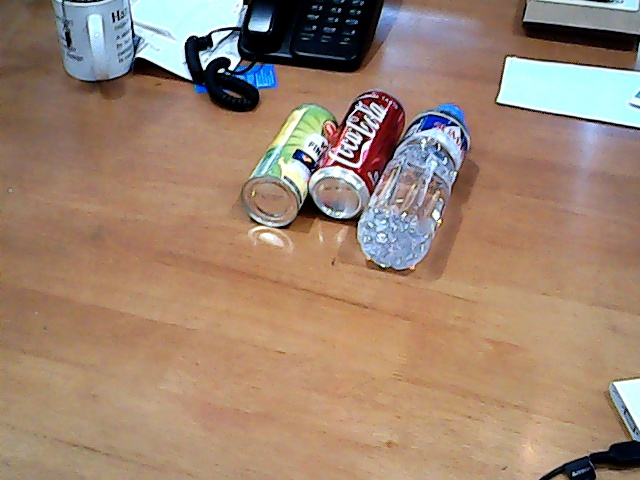Cola: (298, 70, 411, 226)
Pine Juice: (230, 89, 343, 240)
Summit Water: (350, 78, 476, 287)
